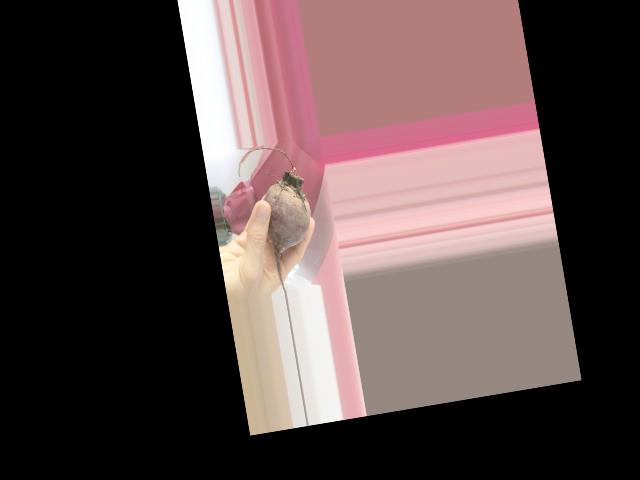beet: (234, 140, 322, 295)
